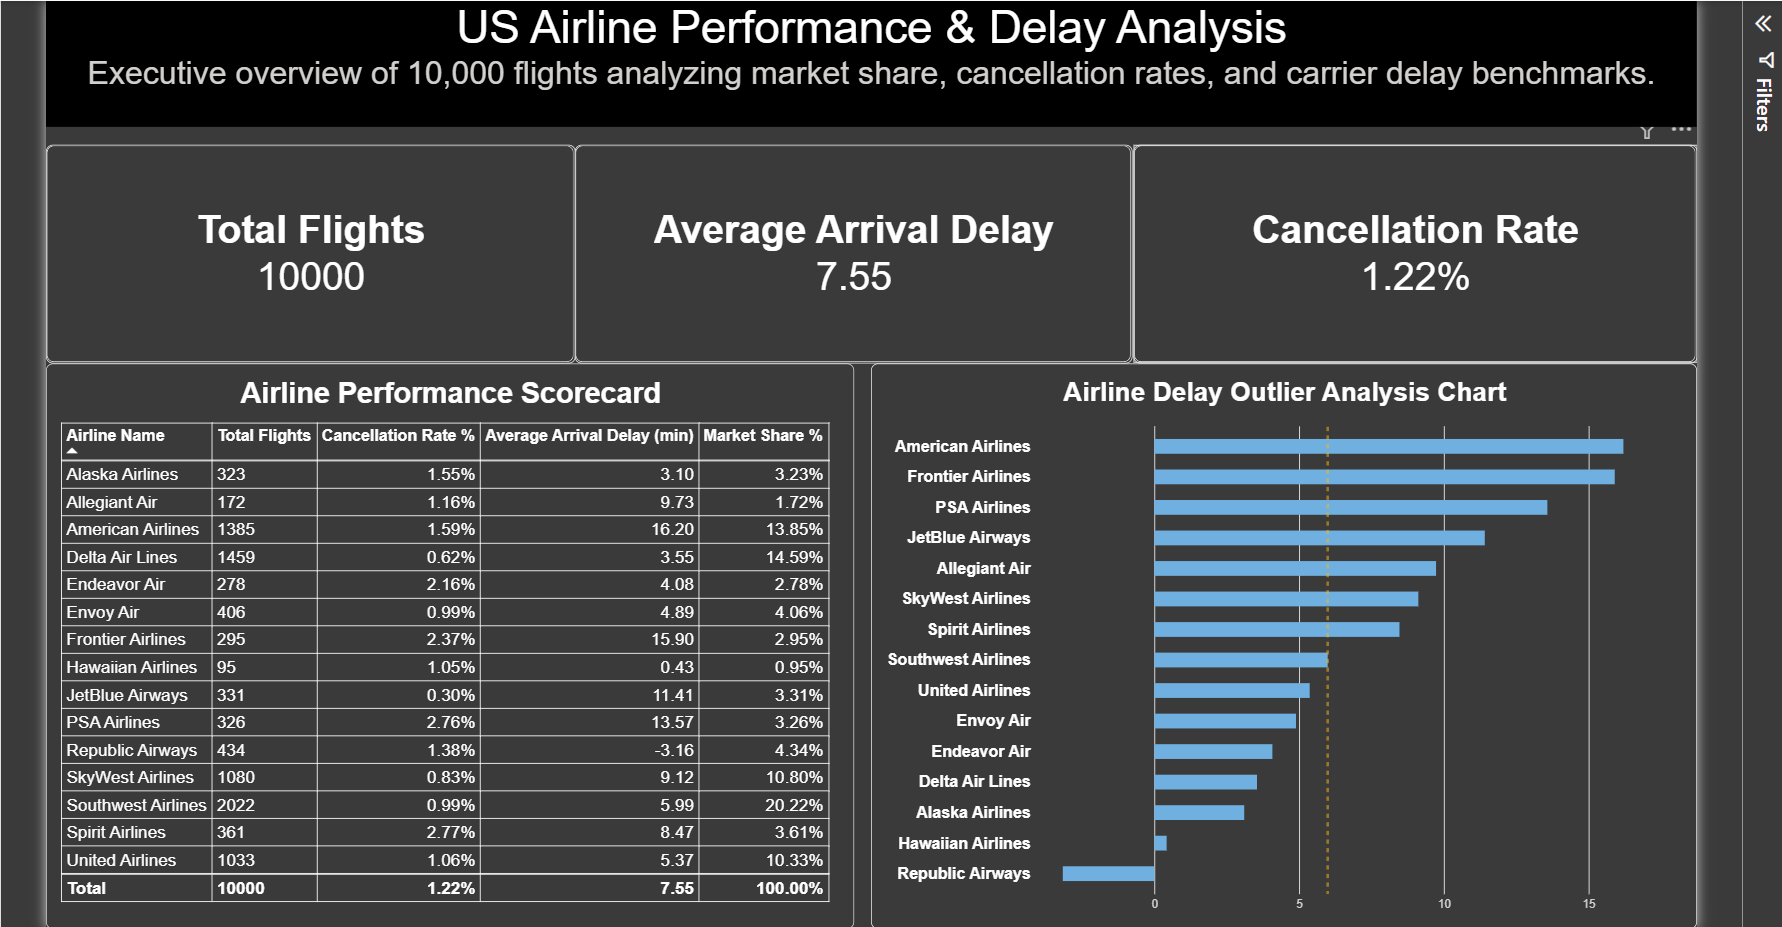

What the dashboard file says about the page in this screenshot:
{"tool":"powerbi","page":{"name":"Page 1","canvas":[1920,1080],"ordinal":0},"visuals":[{"type":"tableEx","title":"Airline Performance Scorecard","fields":{"Values":["carriers_dim.carrier_name","_Measures.Total Flights","_Measures.Cancellation Rate","_Measures.Avg Arrival Delay","_Measures.Market Share %"]},"box":[0,422.1,940.1,657.6],"z":0},{"type":"clusteredBarChart","title":"Airline Delay Outlier Analysis Chart","fields":{"Category":["carriers_dim.carrier_name"],"Y":["_Measures.Avg Arrival Delay"]},"box":[959.3,422.1,961,657.6],"z":1000},{"type":"cardVisual","fields":{"Data":["_Measures.Total Flights"]},"box":[0,167.4,615.7,254.7],"z":2000},{"type":"cardVisual","fields":{"Data":["_Measures.Avg Arrival Delay"]},"box":[615.7,167.4,648.8,254.7],"z":3000},{"type":"cardVisual","fields":{"Data":["_Measures.Cancellation Rate"]},"box":[1264.5,167.4,655.8,254.7],"z":4000},{"type":"textbox","title":"US Airline Performance & Delay Analysis","box":[0,0,1920.4,146.5],"z":5000}]}

Visuals, with their boxes on the page's 1920x1080 design canvas (x1, y1, x2, y2). These are canvas units, not pixel positions in the 1782x927 screenshot, which may show the page scaled, cropped or inside an application window:
"Airline Performance Scorecard" tableEx: box(0, 422, 940, 1080)
"Airline Delay Outlier Analysis Chart" clusteredBarChart: box(959, 422, 1920, 1080)
cardVisual - _Measures.Total Flights: box(0, 167, 616, 422)
cardVisual - _Measures.Avg Arrival Delay: box(616, 167, 1264, 422)
cardVisual - _Measures.Cancellation Rate: box(1264, 167, 1920, 422)
"US Airline Performance & Delay Analysis" textbox: box(0, 0, 1920, 146)
